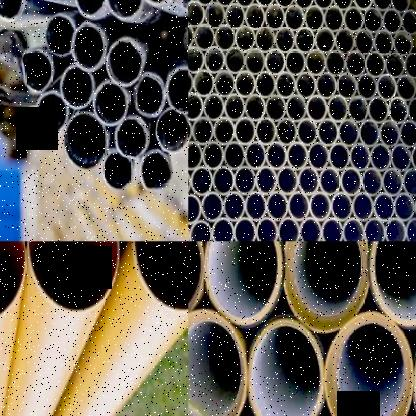pipe: (324, 312, 413, 416), (282, 241, 369, 333), (249, 317, 324, 416), (205, 242, 283, 326), (28, 241, 119, 312), (188, 309, 248, 416), (368, 241, 416, 329), (134, 241, 188, 311), (64, 112, 107, 170), (0, 242, 25, 324), (106, 36, 143, 86), (72, 23, 106, 72), (94, 80, 128, 127), (61, 65, 95, 110), (134, 72, 166, 118), (20, 49, 54, 92), (155, 108, 188, 152), (36, 91, 68, 134), (139, 151, 173, 191), (115, 117, 148, 158), (102, 150, 134, 191), (45, 13, 75, 56), (166, 66, 188, 114), (190, 166, 214, 197), (200, 192, 223, 223), (212, 166, 235, 196), (201, 140, 224, 170), (107, 0, 143, 19), (223, 191, 245, 222), (288, 191, 310, 222), (245, 191, 267, 222), (266, 191, 288, 222), (340, 166, 362, 196), (298, 166, 320, 196), (276, 166, 298, 196), (234, 166, 256, 196), (255, 166, 277, 196), (350, 142, 372, 172), (266, 141, 288, 171), (245, 140, 267, 170), (224, 140, 246, 170), (234, 116, 256, 146), (213, 116, 235, 146), (192, 116, 214, 146), (373, 192, 395, 222), (352, 192, 374, 222), (330, 192, 352, 222), (310, 192, 332, 222), (318, 167, 340, 196), (307, 142, 329, 171), (338, 118, 360, 147), (317, 118, 339, 147), (276, 117, 298, 146), (214, 69, 236, 98), (193, 69, 215, 98), (394, 192, 414, 223), (382, 168, 404, 196), (361, 168, 383, 196), (390, 144, 412, 172), (286, 142, 308, 170), (296, 118, 318, 146), (224, 93, 246, 121), (202, 93, 224, 121), (376, 74, 398, 102), (356, 73, 378, 101), (336, 72, 358, 100), (264, 48, 286, 76), (274, 26, 296, 54), (370, 143, 391, 172), (329, 142, 350, 171), (379, 119, 400, 148), (358, 118, 379, 147), (255, 117, 276, 146), (298, 217, 322, 242), (327, 95, 349, 122), (306, 95, 328, 122), (204, 47, 226, 74), (314, 27, 336, 54), (264, 3, 286, 30), (348, 95, 369, 123), (286, 94, 307, 122), (265, 94, 286, 122), (245, 94, 266, 122), (275, 71, 296, 99), (254, 71, 275, 99), (235, 70, 256, 98), (384, 51, 405, 79), (325, 50, 346, 78), (305, 48, 326, 76), (285, 48, 306, 76), (245, 48, 266, 76), (224, 47, 245, 75), (294, 26, 315, 54), (214, 24, 235, 52), (194, 24, 215, 52), (284, 4, 305, 32), (75, 0, 107, 18), (233, 217, 256, 242), (345, 51, 366, 78), (354, 28, 375, 55), (335, 27, 356, 54), (254, 26, 275, 53), (343, 5, 364, 32), (245, 3, 266, 30), (205, 2, 226, 29), (368, 96, 388, 124), (396, 74, 416, 102), (316, 72, 336, 100), (296, 72, 316, 100), (304, 4, 324, 32), (211, 218, 234, 242), (278, 217, 300, 242), (388, 98, 409, 124), (235, 26, 256, 52), (224, 3, 245, 29), (366, 51, 386, 78), (382, 8, 402, 35), (364, 7, 384, 34), (324, 5, 344, 32), (189, 219, 212, 242), (342, 218, 364, 242), (322, 218, 344, 242), (256, 218, 278, 242), (384, 218, 406, 242), (363, 218, 385, 242), (374, 30, 394, 56), (0, 0, 24, 21), (399, 120, 416, 148), (394, 30, 412, 56), (188, 46, 204, 74), (188, 1, 205, 27), (188, 140, 202, 170), (188, 92, 203, 120), (188, 194, 202, 224), (402, 168, 416, 196), (401, 10, 416, 36), (403, 51, 416, 79), (404, 217, 416, 241), (407, 96, 416, 123), (391, 0, 408, 12), (352, 0, 372, 10), (332, 0, 352, 10), (313, 0, 333, 10), (372, 0, 390, 11), (294, 0, 314, 9), (188, 22, 194, 49), (274, 0, 294, 8), (234, 0, 255, 7), (214, 0, 235, 7), (411, 144, 416, 172), (254, 0, 274, 7), (194, 0, 216, 6)
